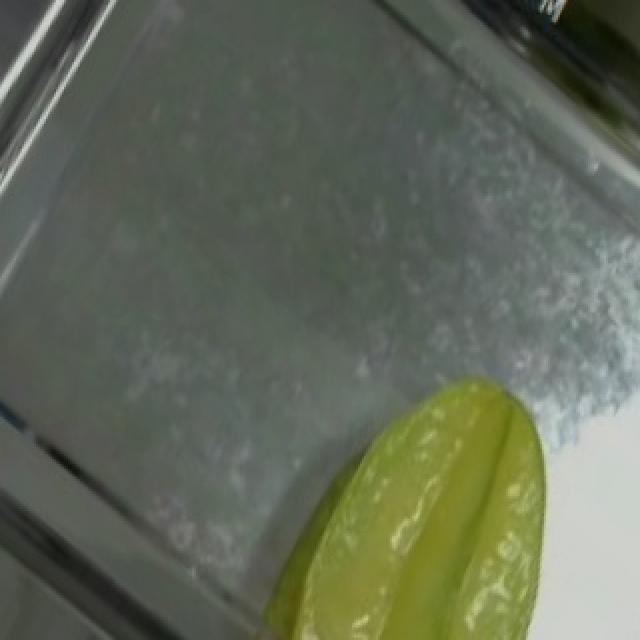fruit: (244, 330, 614, 640)
